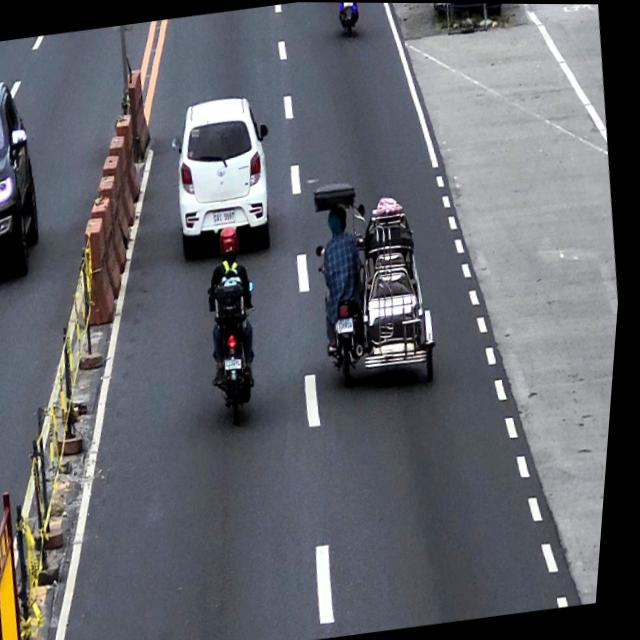Car: (162, 92, 290, 264)
License-Plate: (215, 207, 240, 225), (341, 316, 360, 334), (229, 356, 249, 372)
Motorcycle: (201, 275, 277, 429)
Tricycle: (305, 166, 458, 395)
